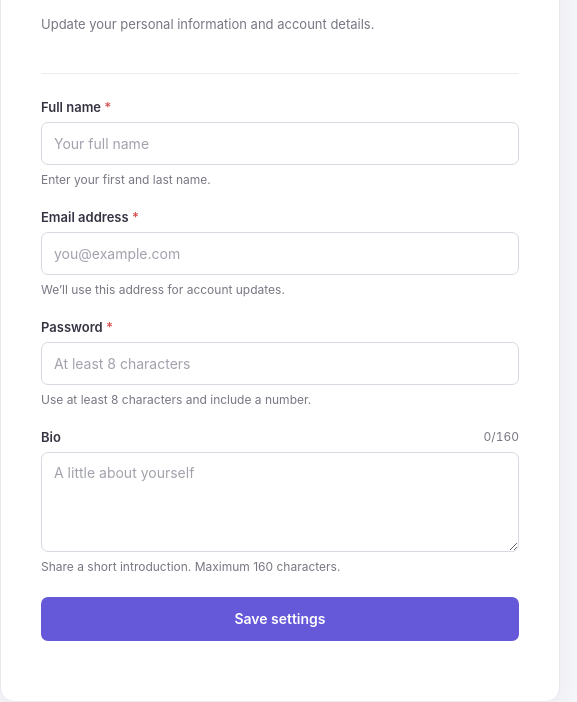
Test case: SettingsForm › focuses the first invalid field when submitting an invalid form
The width and height of the screenshot is (577, 702).
(page scrolled)
Click the button "Save settings": (280, 619) [41,597,519,641]
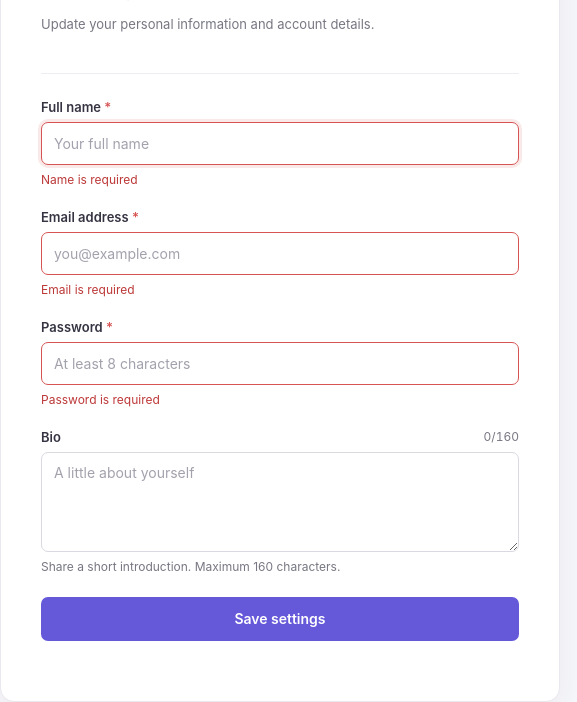
Result: the text "Name is required" is shown at [41,172,138,187]
Result: the text "Email is required" is shown at [41,282,135,297]
